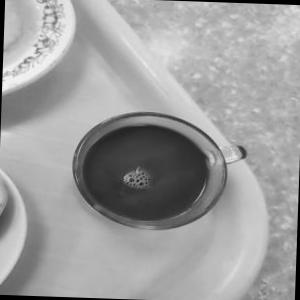coffee: (66, 74, 255, 253)
